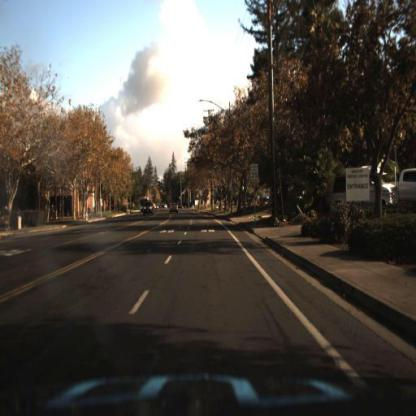car: (325, 165, 398, 212), (169, 202, 181, 218), (144, 201, 155, 218)
pedestrian: (89, 204, 92, 216)
truck: (140, 195, 152, 214)
